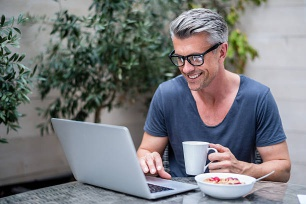male: (169, 27, 230, 93)
